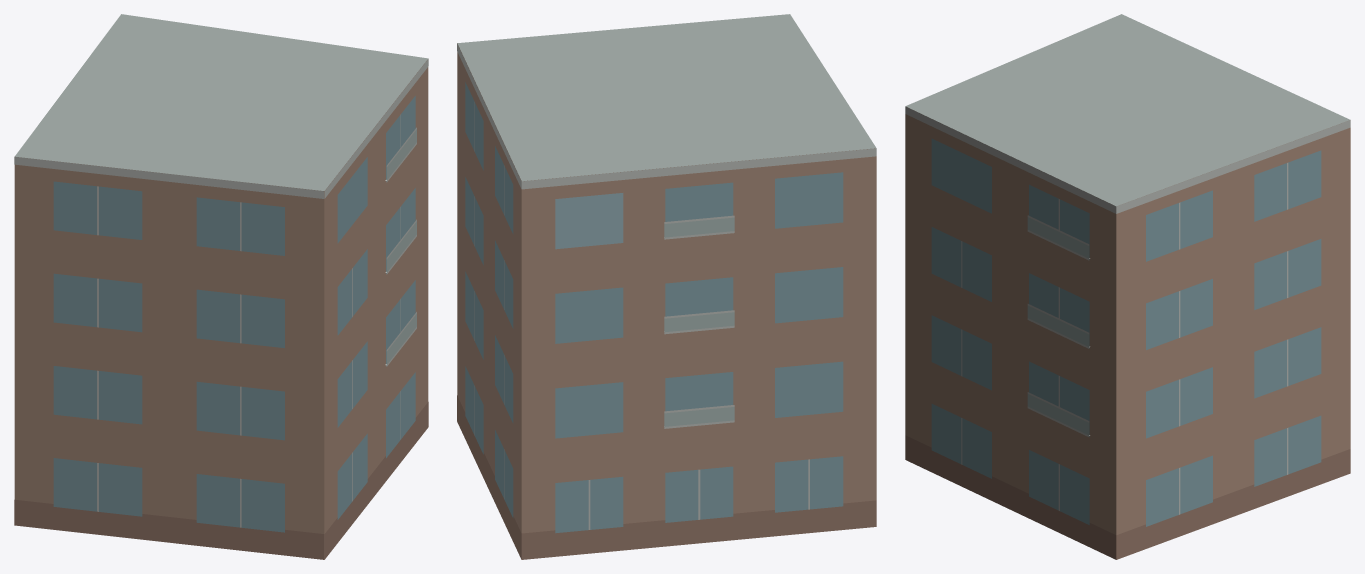
The model's file is survey-upis-32688788.glb.
3 renders of one model, left to right at view 1: azimuth 30°, elevation 25°; view 2: azimuth 150°, elevation 25°; view 3: azimuth 270°, elevation 25°, orthographic. The views are drawn at different scales.
Parts seen in each view (by area): view 1: survey-upis-32688788.tmp; view 2: survey-upis-32688788.tmp; view 3: survey-upis-32688788.tmp.
Part boxes in pixels (box(x1,y1,x2,y2)): survey-upis-32688788.tmp: box(14, 14, 428, 559); survey-upis-32688788.tmp: box(457, 14, 876, 559); survey-upis-32688788.tmp: box(905, 14, 1350, 559).
Size of the model in its own units: 13.19 by 11.3 by 12.91.
